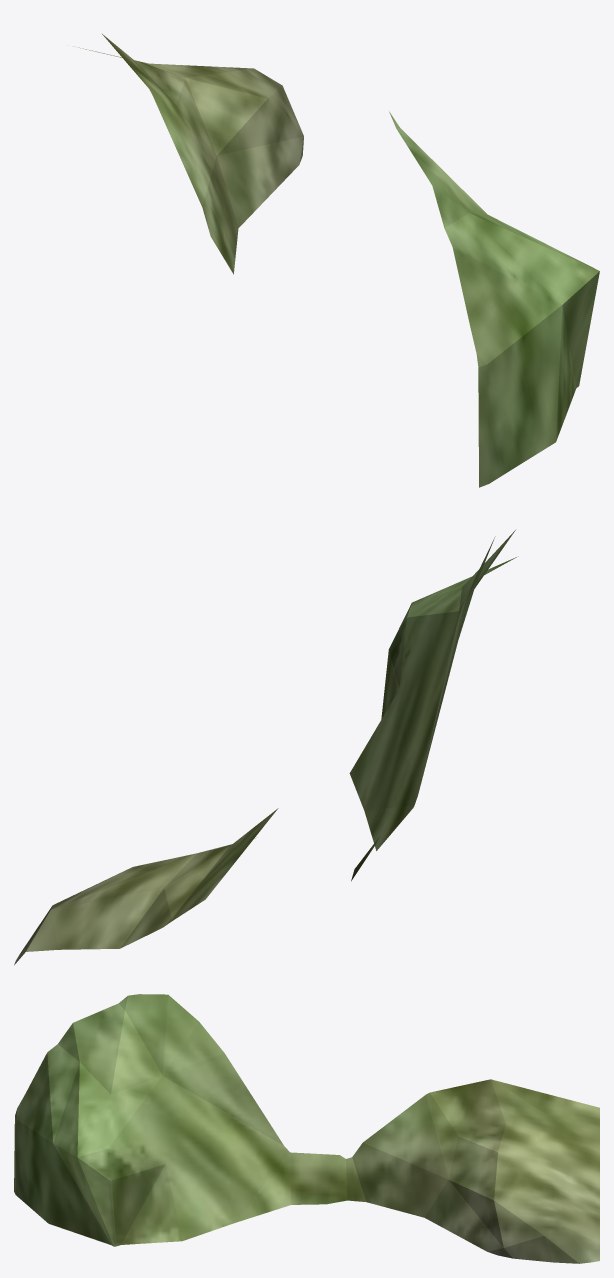
The picture shows the model from 3 angles, top to bottom: view 1: azimuth 30°, elevation 25°; view 2: azimuth 150°, elevation 25°; view 3: azimuth 270°, elevation 25°; orthographic projection. The views are drawn at different scales.
Bounding box in the file's own units: 0.4389 × 0.5596 × 1.5.
1 material, 1 textured.
